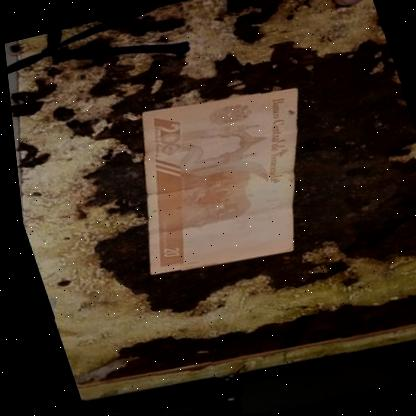twenty-back-vef: (92, 74, 347, 285)
